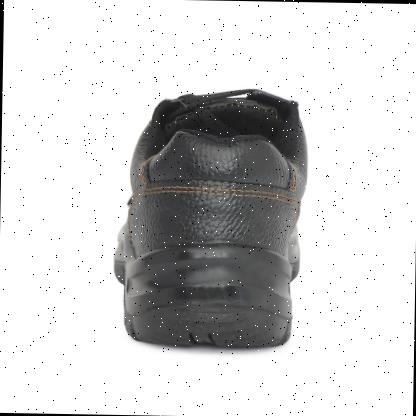bota: (108, 82, 314, 352)
